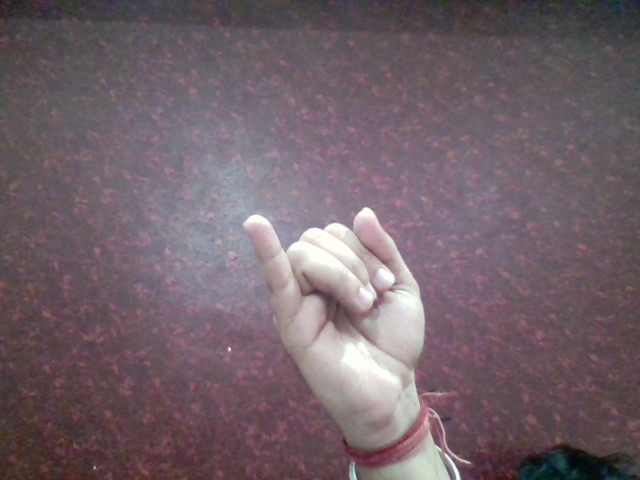j: (233, 198, 448, 400)
